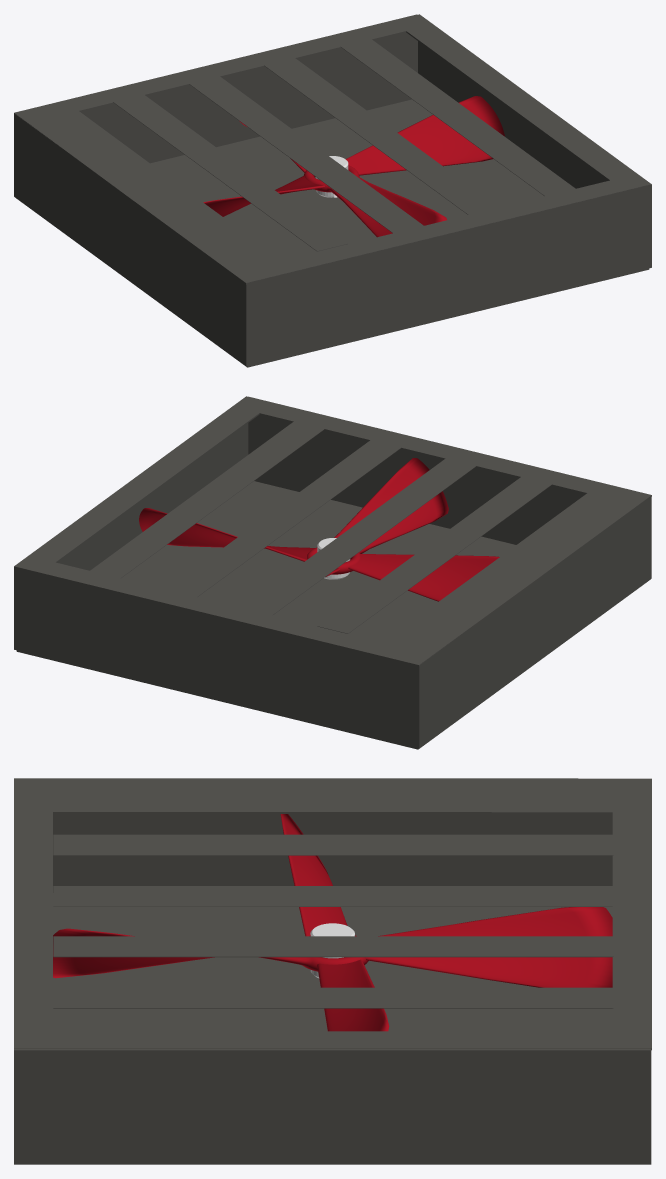
Rendered from fan.fbx.
The picture shows the model from 3 angles, top to bottom: view 1: azimuth 30°, elevation 25°; view 2: azimuth 150°, elevation 25°; view 3: azimuth 270°, elevation 25°; orthographic projection. The views are drawn at different scales.
Parts seen in each view (by area): view 1: Cube.010, Torus; view 2: Cube.010, Torus; view 3: Cube.010, Torus, Cylinder.021.
Part boxes in pixels (left/top/right/bottom): Cube.010: left=14, top=14, right=651, bottom=367; Torus: left=203, top=96, right=504, bottom=237; Cube.010: left=14, top=396, right=651, bottom=749; Torus: left=139, top=458, right=499, bottom=601; Cube.010: left=14, top=778, right=651, bottom=1164; Torus: left=53, top=814, right=612, bottom=1031; Cylinder.021: left=310, top=923, right=354, bottom=978.
Size of the model in its own units: 2866 by 578 by 2845.
